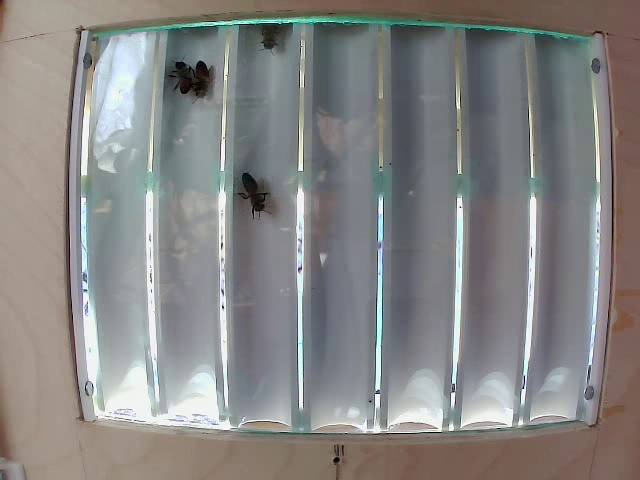bee: (229, 167, 272, 226), (186, 57, 222, 110), (254, 16, 285, 55), (169, 55, 193, 100)
